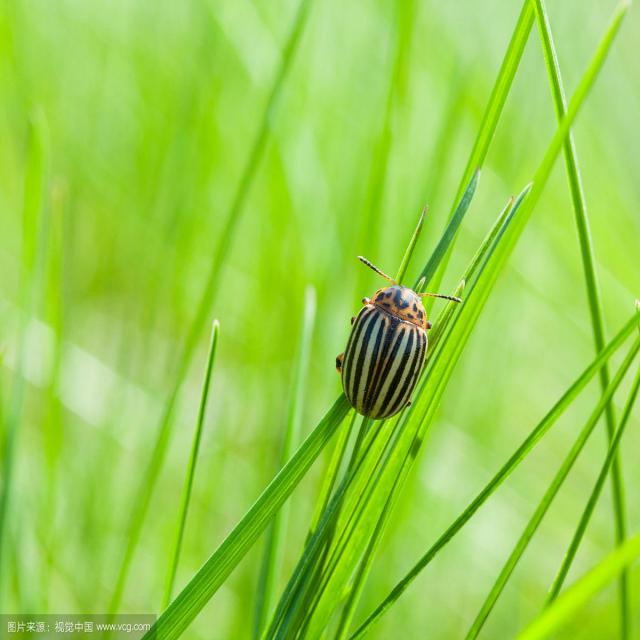ShuCaiHuaBanChong-Grown-: (316, 261, 446, 428)
